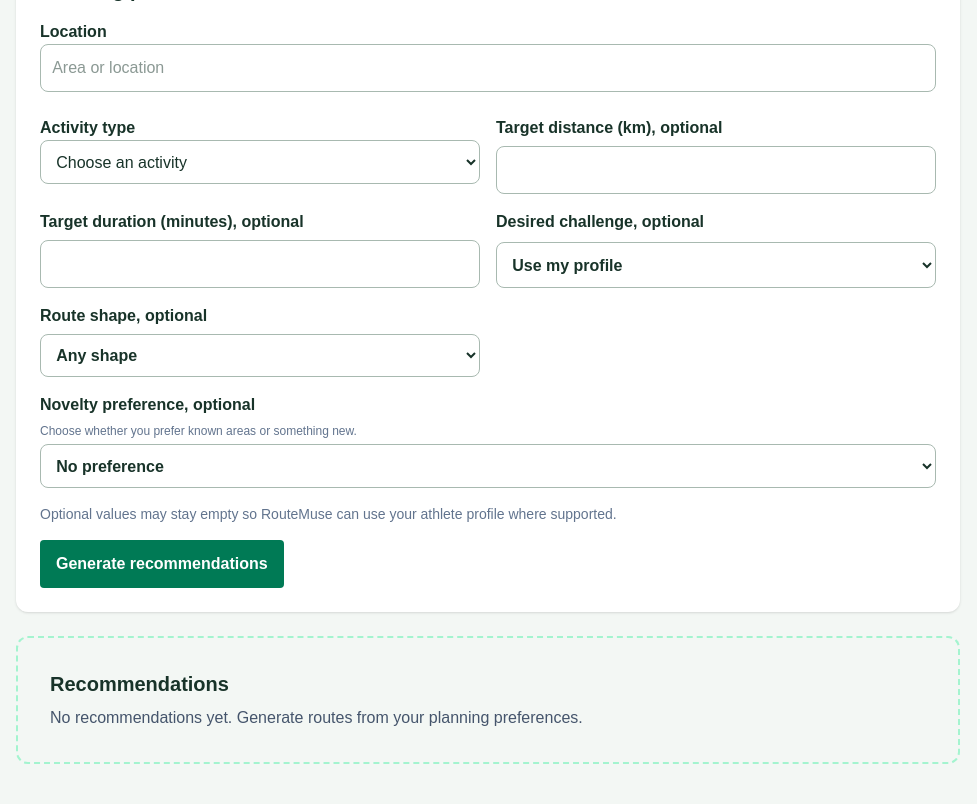
Test: PlannerForm › clears the missing-activity error as soon as a valid activity is selected
(page scrolled)
Click the button "Generate recommendations" at [162, 564], box [40, 540, 284, 588]
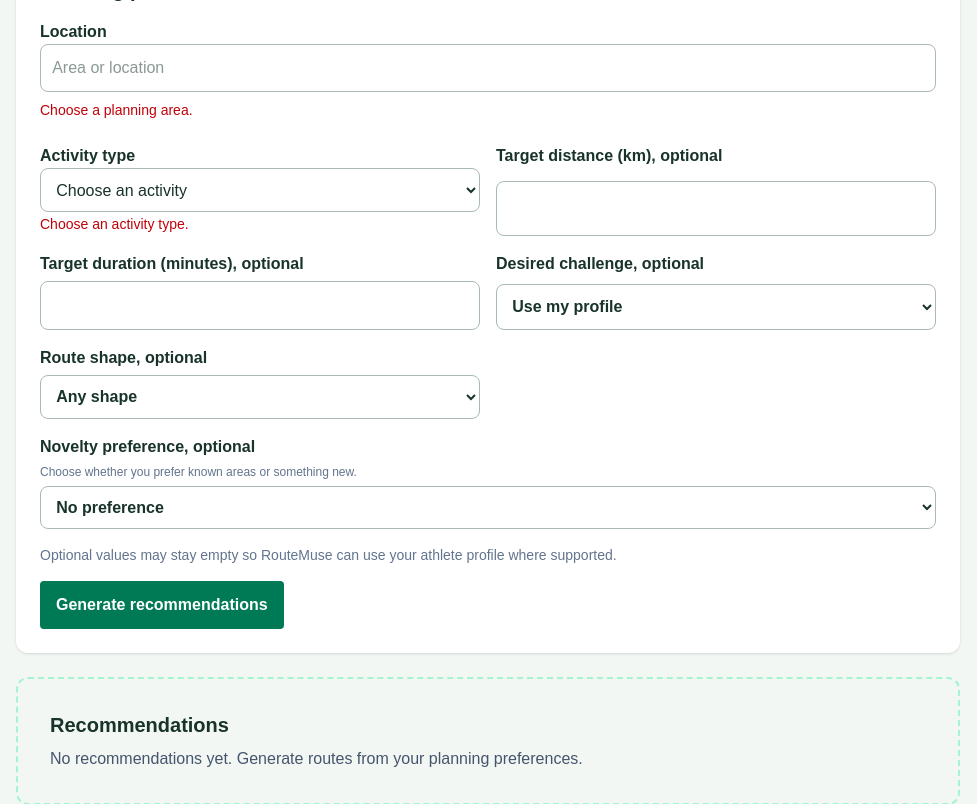
Select "Hiking" in the dropdown labelled "Activity type" at [260, 190], box [40, 168, 480, 212]
(page scrolled)
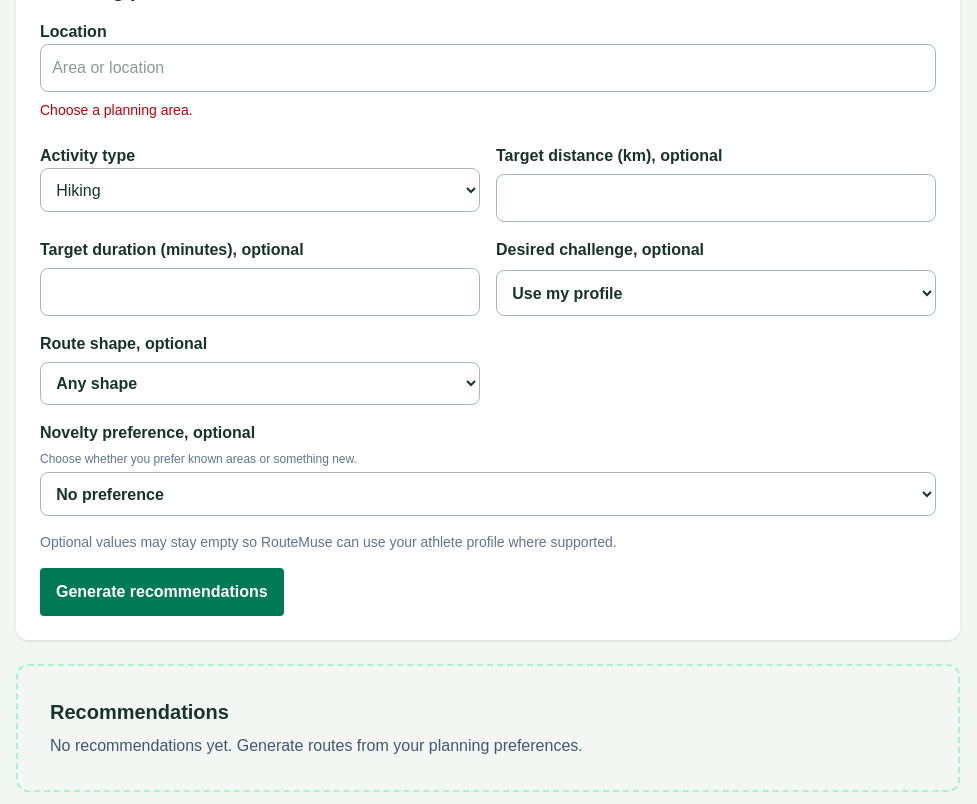
Now the text "Choose an activity type." is gone
